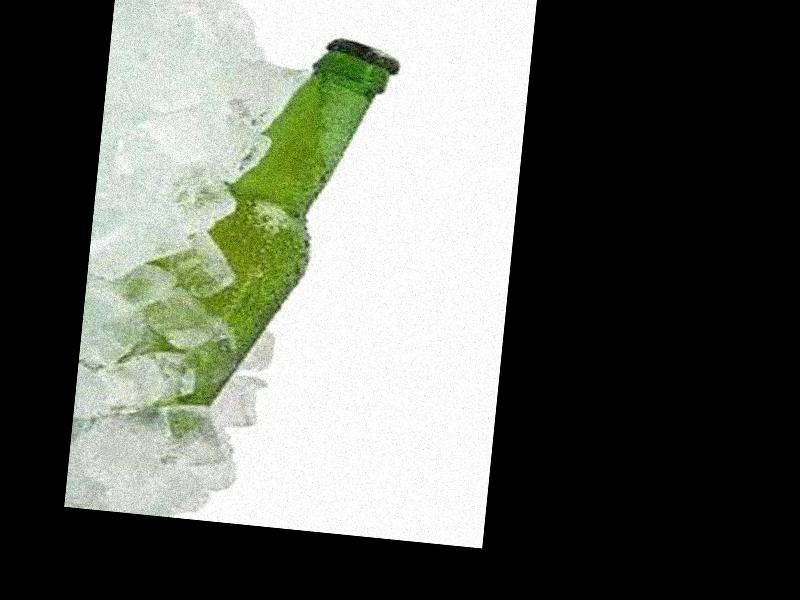Beer: (152, 19, 398, 450)
